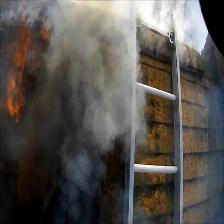fire: (10, 42, 23, 116)
smoke: (62, 7, 110, 224), (115, 17, 138, 127)
